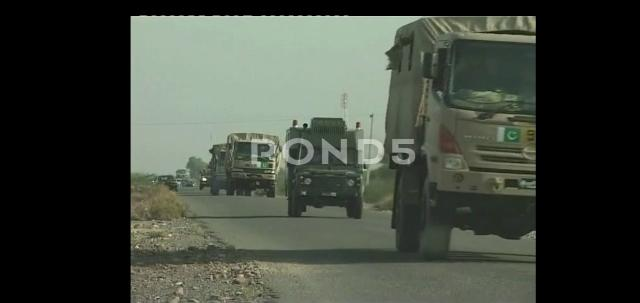plate: (321, 191, 337, 197)
